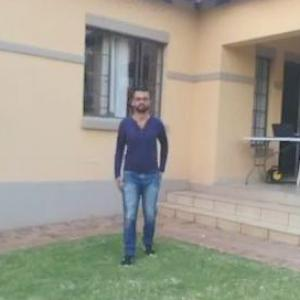follow: (117, 77, 174, 270)
